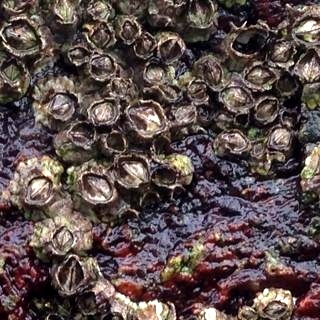Barnacle: (1, 16, 40, 52), (80, 175, 114, 206), (132, 103, 165, 134), (118, 155, 149, 184), (91, 97, 119, 127), (57, 258, 81, 289), (47, 91, 73, 119), (26, 176, 52, 202), (268, 39, 295, 64), (296, 17, 319, 46), (189, 0, 213, 27), (223, 85, 249, 109), (263, 297, 291, 319), (297, 52, 319, 80), (267, 125, 291, 150), (89, 54, 115, 77), (223, 129, 246, 154), (247, 66, 273, 88), (91, 24, 113, 50), (202, 57, 222, 85), (68, 124, 94, 145), (52, 224, 71, 252), (255, 99, 278, 122), (159, 38, 180, 60), (106, 128, 125, 152), (135, 35, 154, 58), (143, 63, 162, 84), (56, 0, 75, 21), (109, 77, 128, 97), (0, 62, 19, 82), (80, 291, 98, 312), (187, 83, 206, 102), (120, 21, 138, 41), (69, 47, 90, 64), (89, 0, 110, 17), (238, 307, 257, 319), (67, 309, 83, 319)
